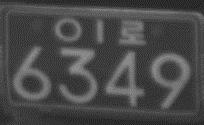0: (53, 16, 83, 43)
1: (88, 16, 112, 43)
3: (58, 47, 99, 104)
4: (103, 50, 145, 107)
6: (12, 45, 52, 101)
9: (151, 50, 190, 111)
로: (117, 16, 147, 45)
